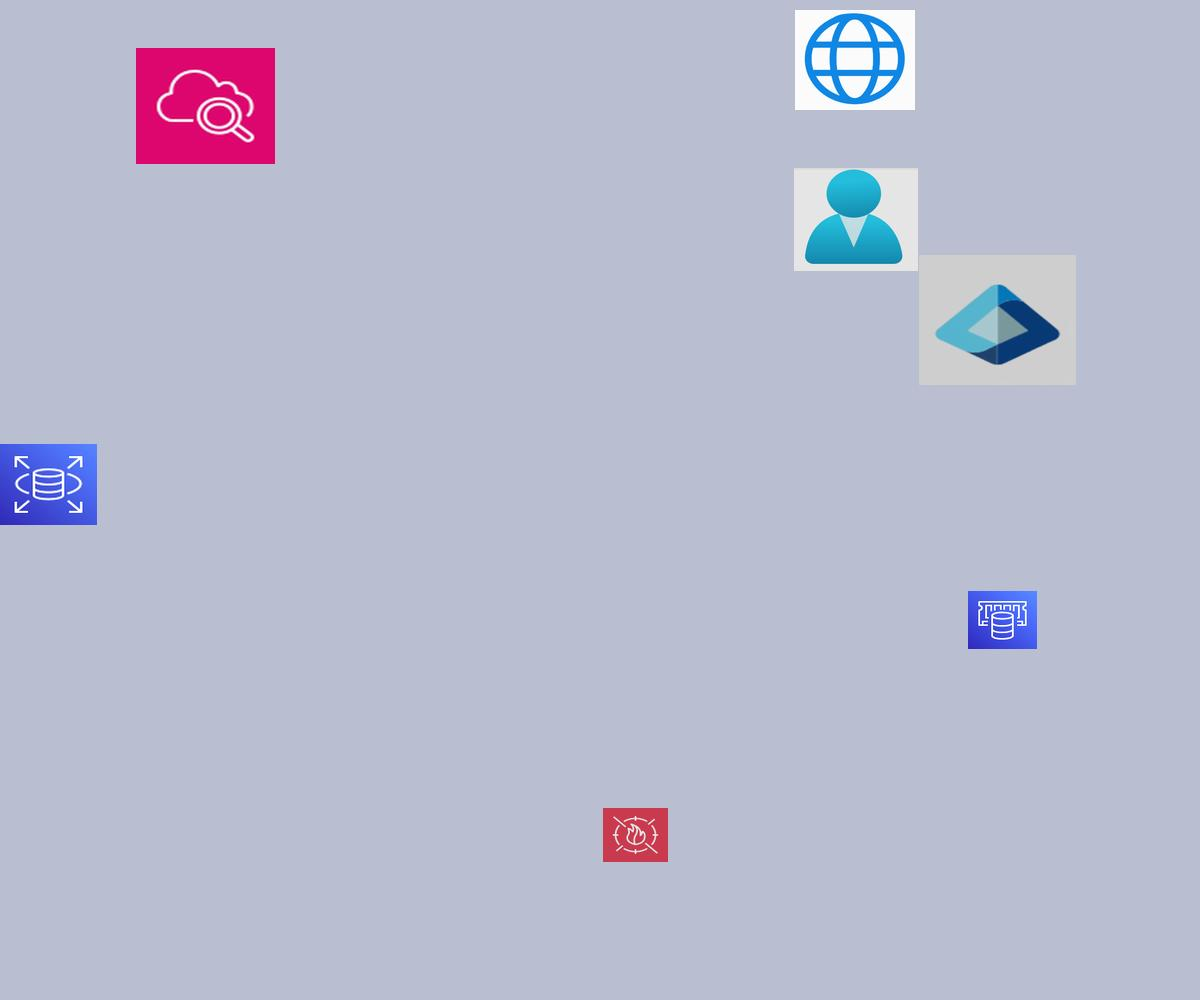AWS-CloudWatch: (136, 48, 275, 164)
AWS-ElastiCache: (968, 591, 1037, 649)
AWS-RDS: (0, 444, 97, 525)
AWS-WAF: (603, 808, 668, 862)
Azure_http: (795, 10, 915, 110)
Azure_microsoft_entra: (919, 255, 1076, 385)
Azure_users: (794, 168, 918, 271)
